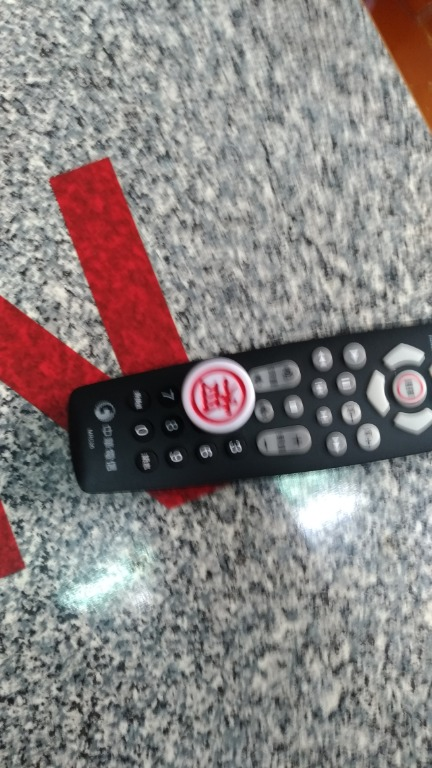r-elephant: (171, 351, 269, 443)
